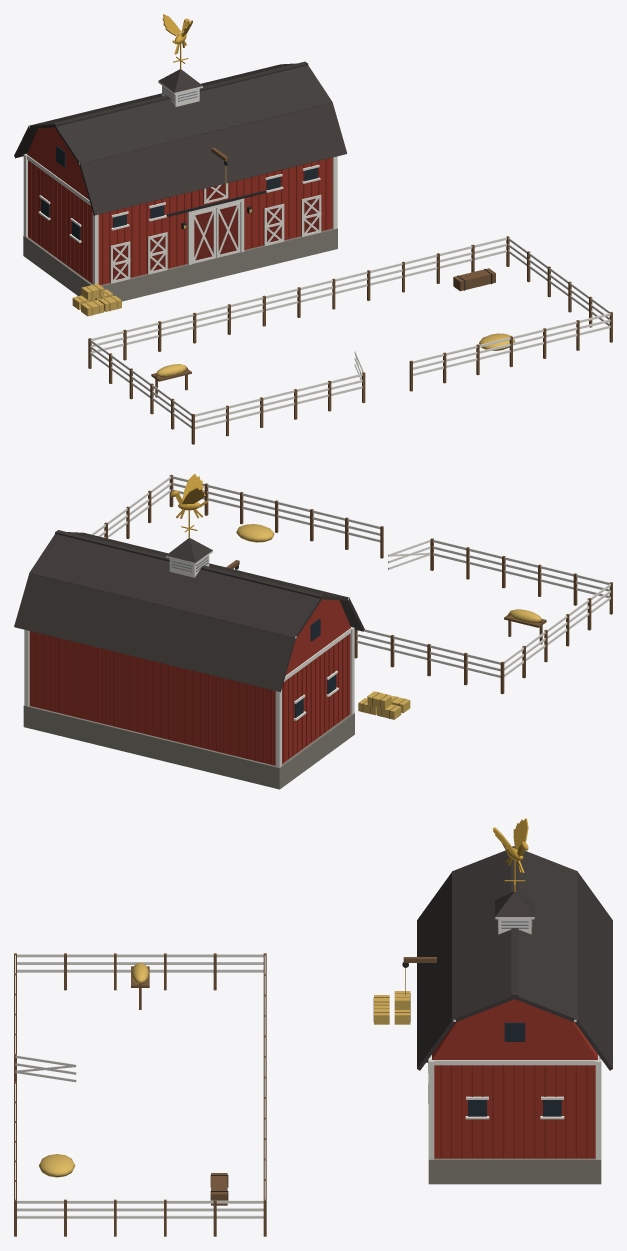
File: stables.glb
3 renders of one model, top to bottom at view 1: azimuth 30°, elevation 25°; view 2: azimuth 150°, elevation 25°; view 3: azimuth 270°, elevation 25°, orthographic. The views are drawn at different scales.
Parts seen in each view (by area): view 1: ROOF_lower_front, PADDOCK_fence, BODY_walls, ROOF_upper_front, BODY_foundation, BODY_battens, BODY_gable_ends, DOOR_main_1, DOOR_main_-1, ROOF_ridge_cap, HAY_bales, ROOF_upper_back (+6 smaller); view 2: BODY_walls, ROOF_lower_back, ROOF_upper_back, PADDOCK_fence, BODY_foundation, BODY_battens, BODY_gable_ends, ROOF_ridge_cap, HAY_bales, ROOF_upper_front, CUPOLA_roof, HAY_ground_pile (+4 smaller); view 3: BODY_walls, ROOF_upper_front, ROOF_upper_back, PADDOCK_fence, BODY_gable_ends, ROOF_lower_back, ROOF_lower_front, BODY_foundation, BODY_battens, HAY_bales, TRIM_eave_band, CUPOLA_roof (+5 smaller).
Boxes of the visible parts, <box> form: ROOF_lower_front: <box>79,102,347,215</box>; PADDOCK_fence: <box>88,236,612,444</box>; BODY_walls: <box>28,157,332,285</box>; ROOF_upper_front: <box>54,65,332,165</box>; BODY_foundation: <box>23,228,337,301</box>; BODY_battens: <box>30,159,327,284</box>; BODY_gable_ends: <box>27,127,89,199</box>; DOOR_main_1: <box>216,202,240,257</box>; DOOR_main_-1: <box>192,208,215,263</box>; ROOF_ridge_cap: <box>53,61,308,126</box>; HAY_bales: <box>72,283,121,316</box>; ROOF_upper_back: <box>28,63,295,128</box>; BODY_walls: <box>29,631,350,765</box>; ROOF_lower_back: <box>14,573,295,692</box>; ROOF_upper_back: <box>29,534,321,638</box>; PADDOCK_fence: <box>91,474,612,694</box>; BODY_foundation: <box>23,705,354,789</box>; BODY_battens: <box>35,632,348,764</box>; BODY_gable_ends: <box>285,599,350,675</box>; ROOF_ridge_cap: <box>55,530,323,598</box>; HAY_bales: <box>358,691,410,719</box>; ROOF_upper_front: <box>67,532,349,600</box>; CUPOLA_roof: <box>166,538,212,562</box>; HAY_ground_pile: <box>236,524,274,542</box>; BODY_walls: <box>434,1065,595,1158</box>; ROOF_upper_front: <box>452,850,514,1022</box>; ROOF_upper_back: <box>515,851,577,1022</box>; PADDOCK_fence: <box>14,953,266,1236</box>; BODY_gable_ends: <box>432,999,597,1059</box>; ROOF_lower_back: <box>575,872,612,1070</box>; ROOF_lower_front: <box>417,872,454,1070</box>; BODY_foundation: <box>428,1057,601,1184</box>; BODY_battens: <box>440,1065,587,1157</box>; HAY_bales: <box>373,991,410,1024</box>; TRIM_eave_band: <box>430,1055,599,1065</box>; CUPOLA_roof: <box>495,891,534,916</box>.
Size of what is drawn, in the model's own units: 28.14 by 15.23 by 28.78.
